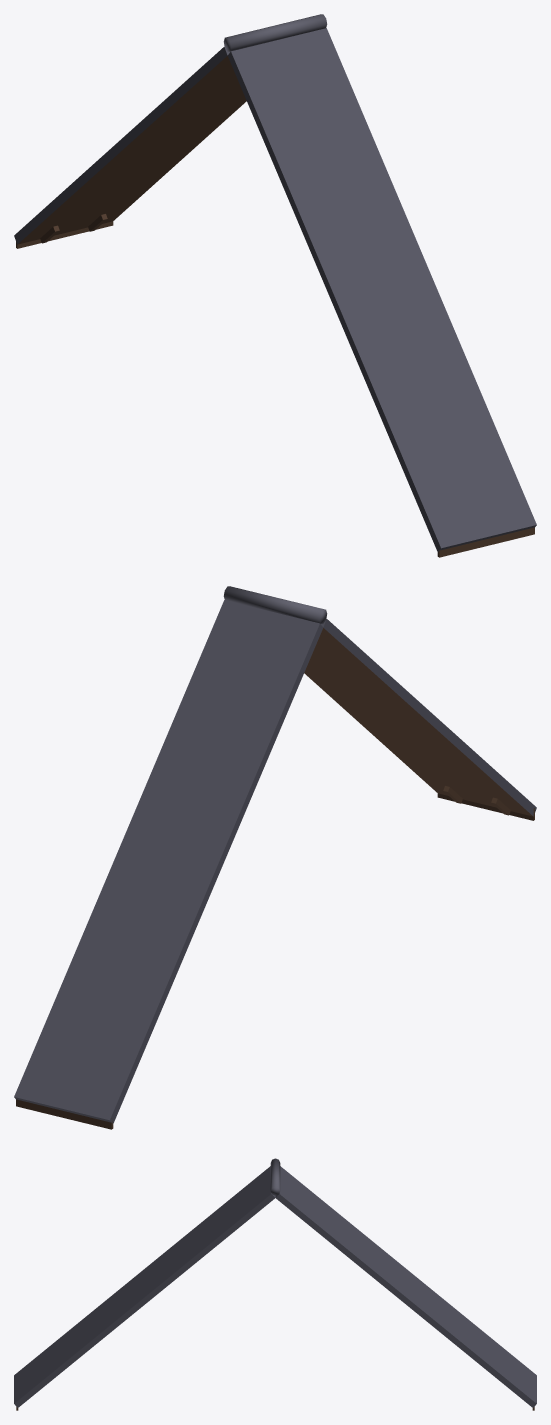
The model's file is kit_timber_slate_w7.glb.
The picture shows the model from 3 angles, top to bottom: view 1: azimuth 30°, elevation 25°; view 2: azimuth 150°, elevation 25°; view 3: azimuth 270°, elevation 25°; orthographic projection. The views are drawn at different scales.
Visible parts, largest first — view 1: kit_timber_slate_w7; view 2: kit_timber_slate_w7; view 3: kit_timber_slate_w7.
Boxes of the visible parts, left/top/right/bottom form: kit_timber_slate_w7: left=14, top=14, right=536, bottom=557; kit_timber_slate_w7: left=14, top=586, right=536, bottom=1129; kit_timber_slate_w7: left=14, top=1158, right=536, bottom=1410.
Size of the model in its own units: 1 by 3.64 by 7.72.
